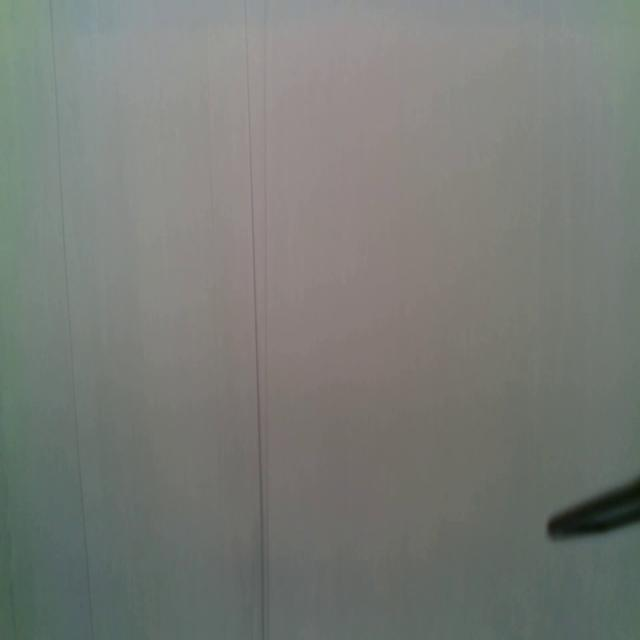crease: (49, 0, 96, 640), (245, 0, 271, 640), (206, 4, 228, 636)
